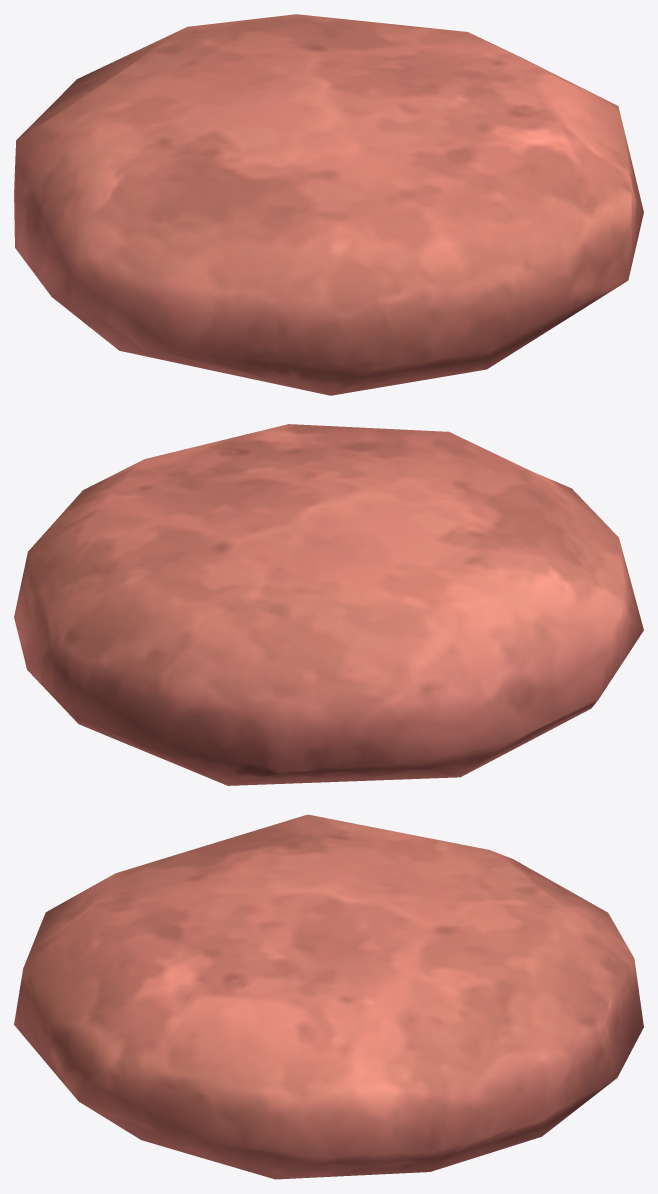
Rendered from obj_stone06.gltf.
3 views of the same model, one above another, from view 1: azimuth 30°, elevation 25°; view 2: azimuth 150°, elevation 25°; view 3: azimuth 270°, elevation 25° (orthographic). The views are drawn at different scales.
Visible parts, largest first — view 1: obj_stone06; view 2: obj_stone06; view 3: obj_stone06.
Boxes of the visible parts, bbox=[...] form: obj_stone06: bbox=[14, 14, 643, 395]; obj_stone06: bbox=[14, 424, 643, 785]; obj_stone06: bbox=[14, 814, 643, 1179].
Size of what is drawn, in the model's own units: 1.76 by 0.6627 by 1.79.
1 material, 1 textured.
